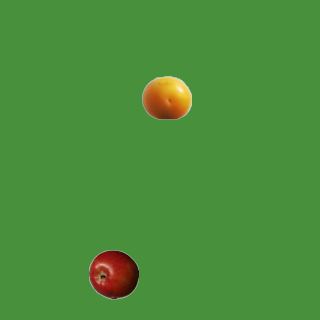Apple Braeburn: (88, 249, 138, 299)
Cherry Wax Yellow: (141, 72, 191, 122)
